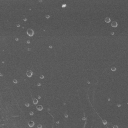corrosion: (25, 26, 36, 37), (24, 70, 34, 79), (110, 20, 118, 28), (35, 105, 44, 112), (32, 97, 39, 105), (105, 15, 112, 23), (110, 65, 117, 72), (28, 119, 34, 127), (101, 119, 108, 125), (22, 16, 28, 23), (12, 78, 18, 84), (44, 14, 51, 19), (39, 74, 45, 79), (14, 36, 19, 42), (48, 44, 53, 49), (61, 3, 67, 7)
